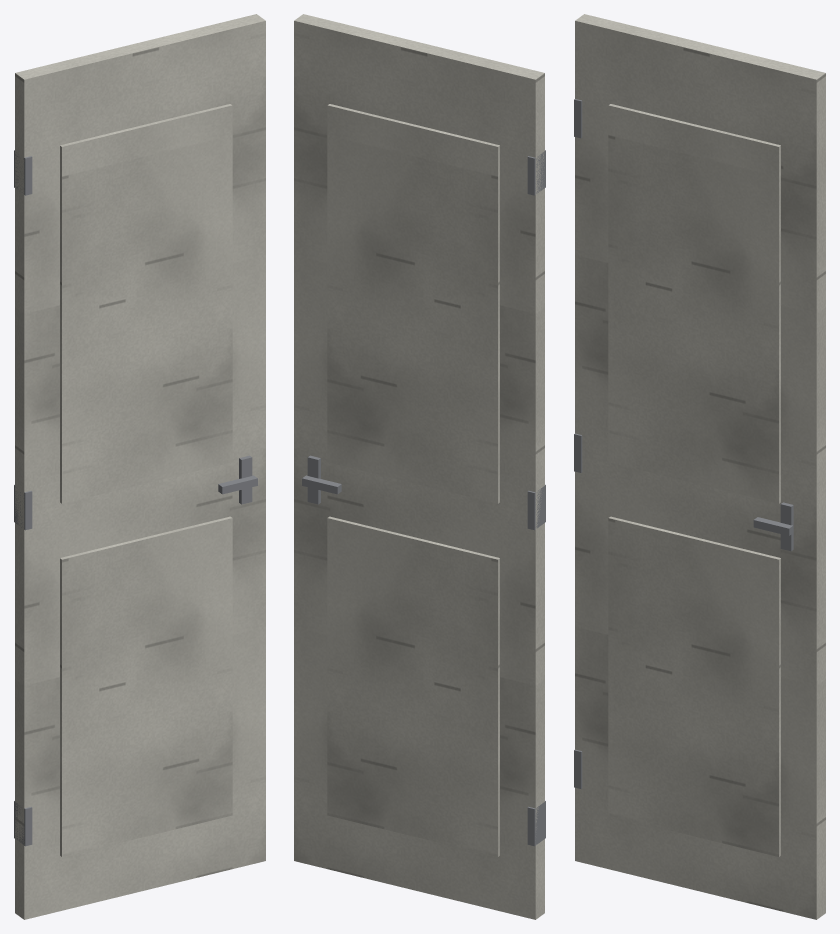
File: DoorLeaf.obj
3 views of the same model, side by side, from view 1: azimuth 30°, elevation 25°; view 2: azimuth 150°, elevation 25°; view 3: azimuth 330°, elevation 25° (orthographic).
Parts seen in each view (by area): view 1: panel, leaf, hinge, handle; view 2: panel, leaf, hinge, handle; view 3: panel, leaf, hinge, handle.
Boxes of the visible parts, <box> form: panel: <box>60,104,232,856</box>; leaf: <box>15,14,265,919</box>; hinge: <box>14,150,32,846</box>; handle: <box>218,455,257,504</box>; panel: <box>327,104,499,856</box>; leaf: <box>294,14,544,919</box>; hinge: <box>527,150,545,846</box>; handle: <box>302,455,341,504</box>; panel: <box>608,104,780,856</box>; leaf: <box>575,14,825,919</box>; hinge: <box>574,99,582,788</box>; handle: <box>753,502,793,551</box>.
Size of the model in its own units: 0.68 by 2.26 by 0.14.
Materials: 2 (1 with a texture image).
